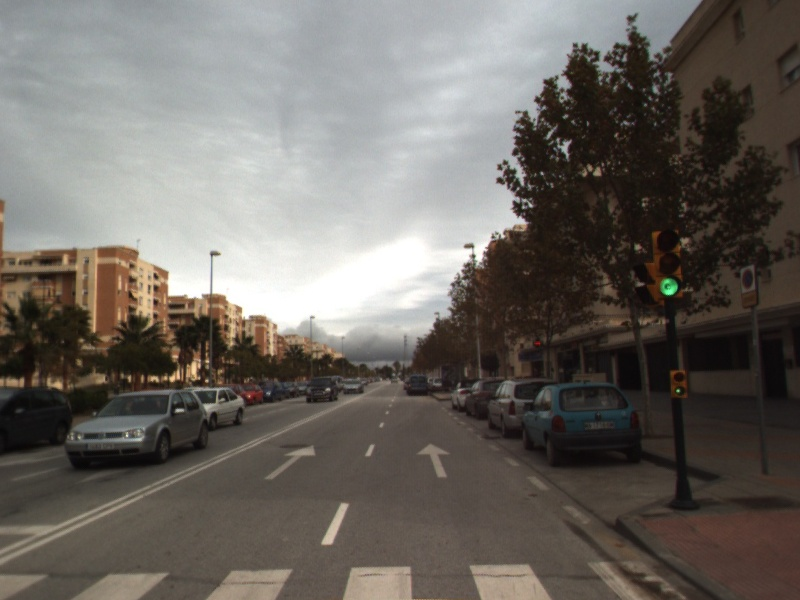STRAIGHT: (262, 443, 317, 482), (414, 441, 453, 479)
